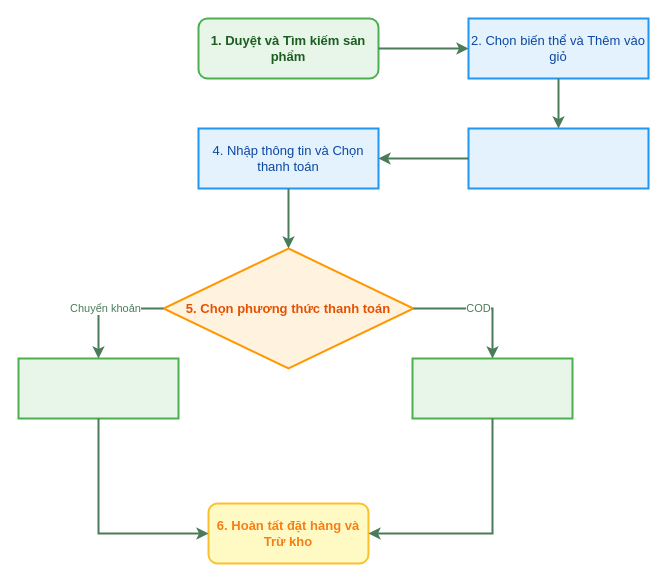
This 666x581 diagram has some shape labels left out. The centre of each missing label's shape, as x and y in pixels:
"3. Kiểm tra Giỏ hàng" goes at (x=558, y=158).
"5A. Chuyển khoản QR" goes at (x=98, y=388).
"5B. Nhận hàng thanh toán (COD)" goes at (x=492, y=388).
